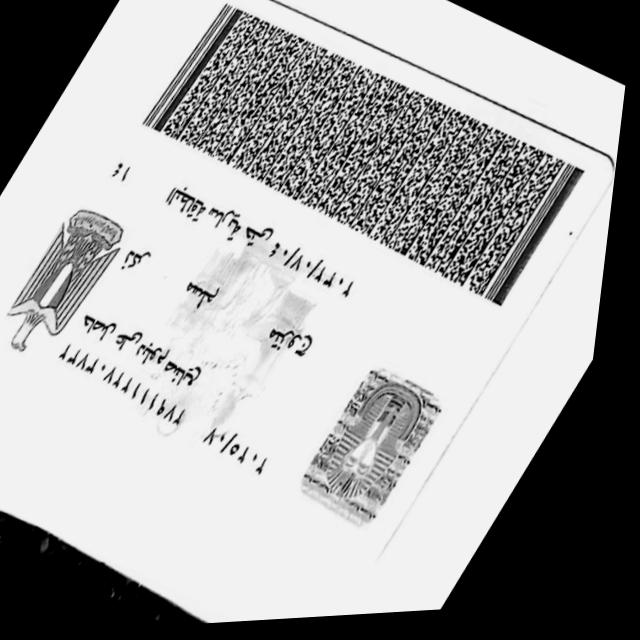id_card: (0, 0, 640, 587)
